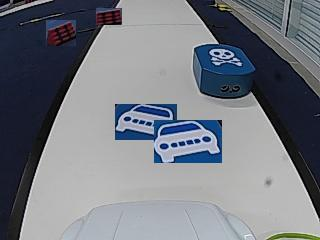danger: (209, 47, 241, 66)
